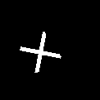single_crochet: (20, 32, 60, 71)
